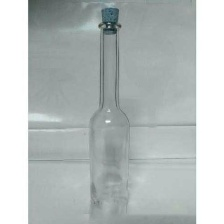bottle: (88, 18, 135, 217)
